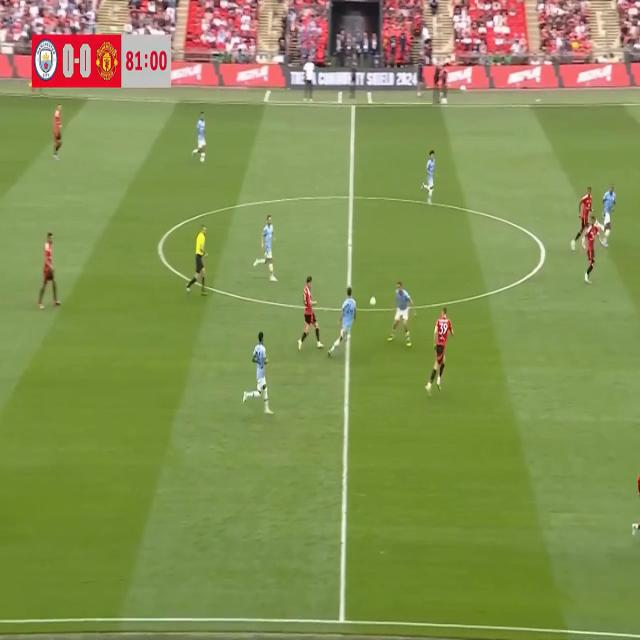ball: (366, 292, 380, 312)
players: (28, 222, 66, 320), (240, 329, 280, 422), (422, 302, 456, 399), (325, 283, 360, 364), (296, 268, 326, 360), (563, 184, 595, 256), (592, 174, 621, 252), (252, 206, 280, 286), (384, 278, 416, 348), (186, 102, 213, 172), (580, 216, 603, 288), (417, 145, 442, 211), (49, 96, 72, 164), (626, 471, 640, 541)
refree: (182, 220, 210, 299)
